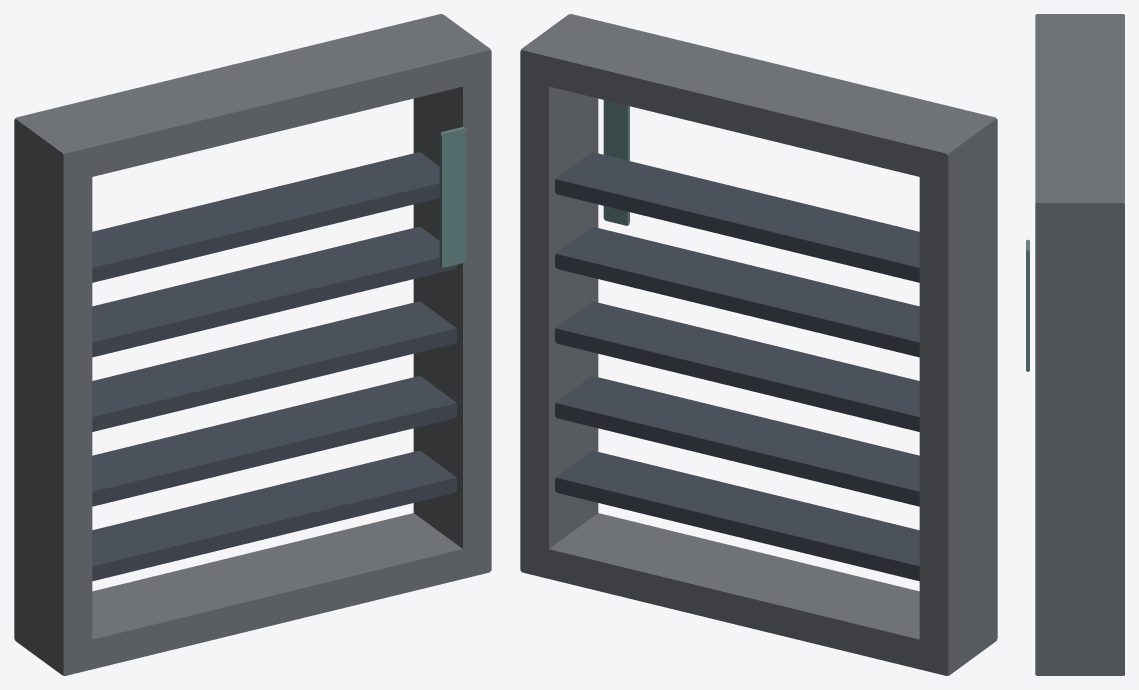
File: wind_vent_wall.glb
3 renders of one model, left to right at view 1: azimuth 30°, elevation 25°; view 2: azimuth 150°, elevation 25°; view 3: azimuth 270°, elevation 25°, orthographic. The views are drawn at different scales.
Visible parts, largest first — view 1: wind_vent_wall_Static; view 2: wind_vent_wall_Static; view 3: wind_vent_wall_Static.
Boxes of the visible parts, <box> form: wind_vent_wall_Static: <box>14,14,491,675</box>; wind_vent_wall_Static: <box>520,14,997,675</box>; wind_vent_wall_Static: <box>1026,14,1124,675</box>.
Bounding box in the file's own units: 3 × 3.5 × 0.6625.
